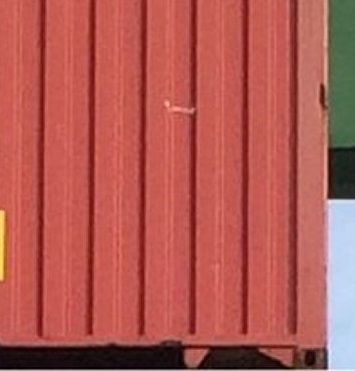container_no_door: (7, 1, 327, 366)
